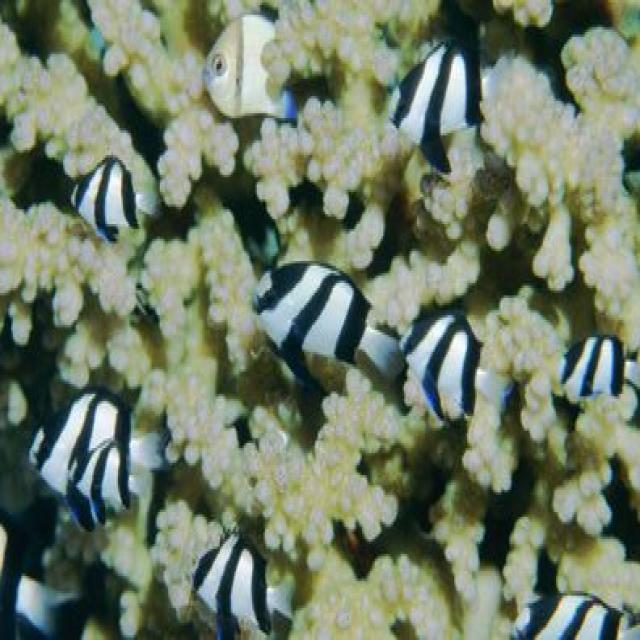Three_striped DasmselFish: (24, 384, 170, 526), (256, 260, 400, 386), (381, 33, 493, 176), (400, 304, 513, 422), (184, 533, 296, 636), (66, 158, 146, 242), (507, 593, 640, 640), (557, 330, 640, 400)
